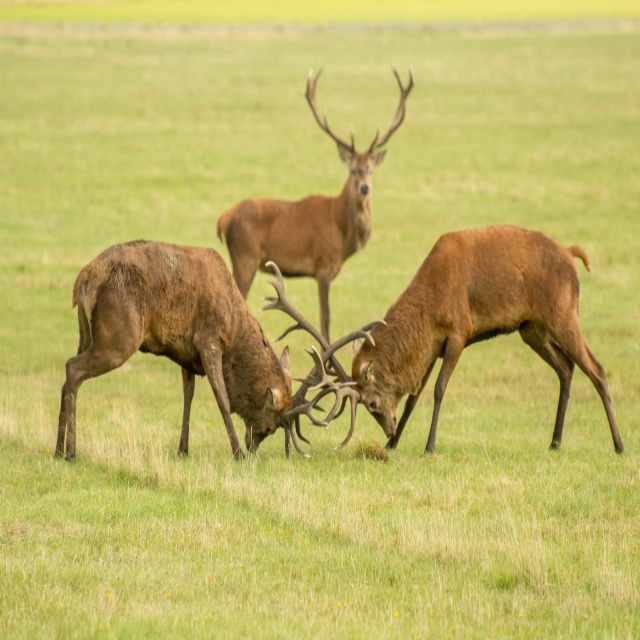Deer: (257, 224, 624, 457), (53, 240, 387, 462), (217, 63, 416, 360)
